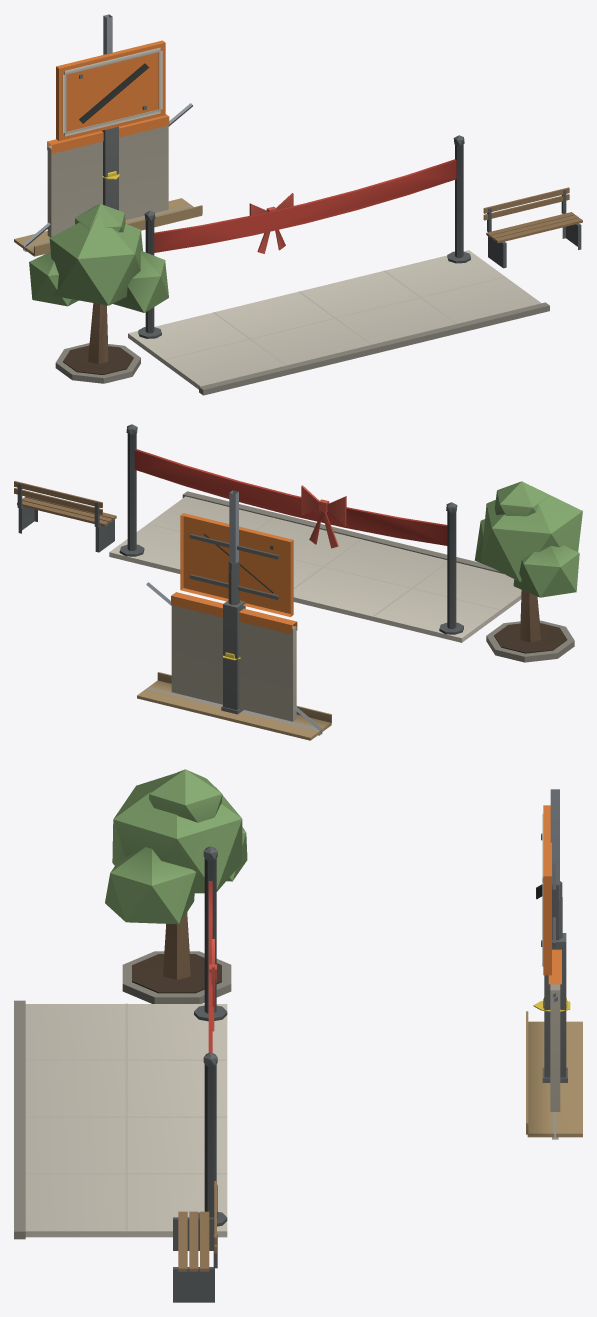
File: site-kit.glb
The picture shows the model from 3 angles, top to bottom: view 1: azimuth 30°, elevation 25°; view 2: azimuth 150°, elevation 25°; view 3: azimuth 270°, elevation 25°; orthographic projection. The views are drawn at different scales.
Parts seen in each view (by area): view 1: CompletedYard, SiteSign, FenceSheet, FenceHalf, ScaffoldDeck, FencePost; view 2: CompletedYard, SiteSign, FenceSheet, FenceHalf, ScaffoldDeck, FencePost, ScaffoldFoot, ScaffoldLedger; view 3: CompletedYard, ScaffoldDeck, SiteSign, FencePost, FenceSheet, ScaffoldFoot.
Boxes of the visible parts, x1,y1,x2,y2 form: CompletedYard: [29, 135, 582, 395]; SiteSign: [56, 40, 165, 140]; FenceSheet: [47, 114, 169, 237]; FenceHalf: [79, 122, 139, 220]; ScaffoldDeck: [14, 198, 202, 256]; FencePost: [102, 126, 118, 210]; CompletedYard: [14, 424, 582, 662]; SiteSign: [180, 513, 293, 714]; FenceSheet: [171, 592, 297, 721]; FenceHalf: [201, 599, 266, 714]; ScaffoldDeck: [137, 672, 331, 740]; FencePost: [223, 600, 245, 710]; ScaffoldFoot: [229, 490, 238, 579]; ScaffoldLedger: [146, 688, 322, 735]; CompletedYard: [14, 769, 247, 1302]; ScaffoldDeck: [526, 1011, 582, 1137]; SiteSign: [536, 805, 567, 1082]; FencePost: [544, 933, 566, 1077]; FenceSheet: [548, 949, 561, 1111]; ScaffoldFoot: [550, 789, 559, 898].
Size of the model in its own units: 10.14 by 3.84 by 6.77.
